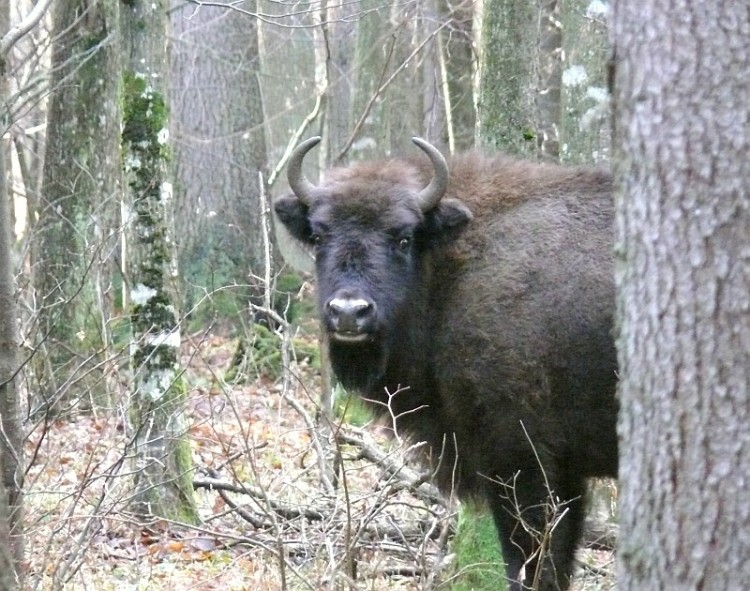zubr: (268, 99, 614, 591)
